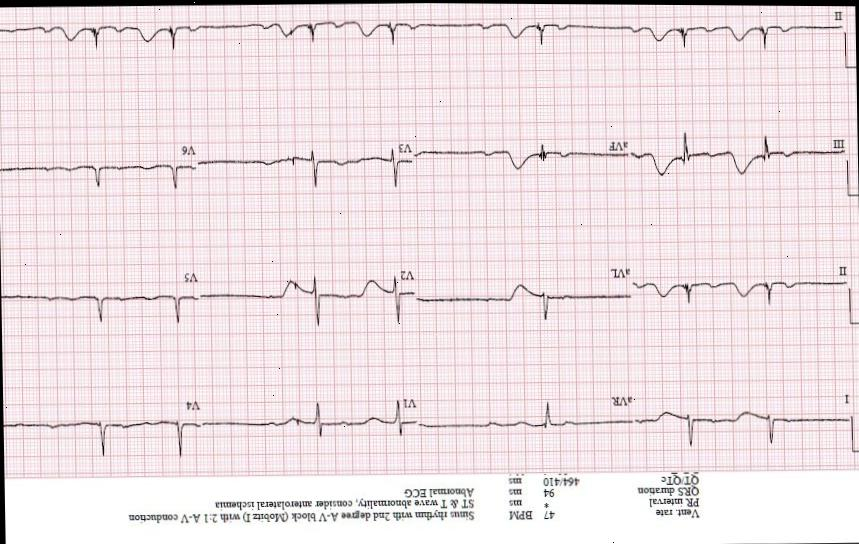Lead_I: (634, 379, 852, 450)
Lead_II: (630, 255, 850, 325)
Lead_III: (628, 120, 848, 196)
Lead_II_ext: (0, 0, 845, 82)
Lead_V1: (199, 387, 420, 455)
Lead_V2: (198, 259, 417, 340)
Lead_V3: (195, 123, 416, 203)
Lead_V4: (2, 377, 201, 471)
Lead_V5: (0, 256, 200, 340)
Lead_V6: (0, 122, 197, 208)
Lead_aVF: (412, 123, 630, 192)
Lead_aVL: (415, 256, 630, 334)
Lead_aVR: (415, 384, 636, 443)
